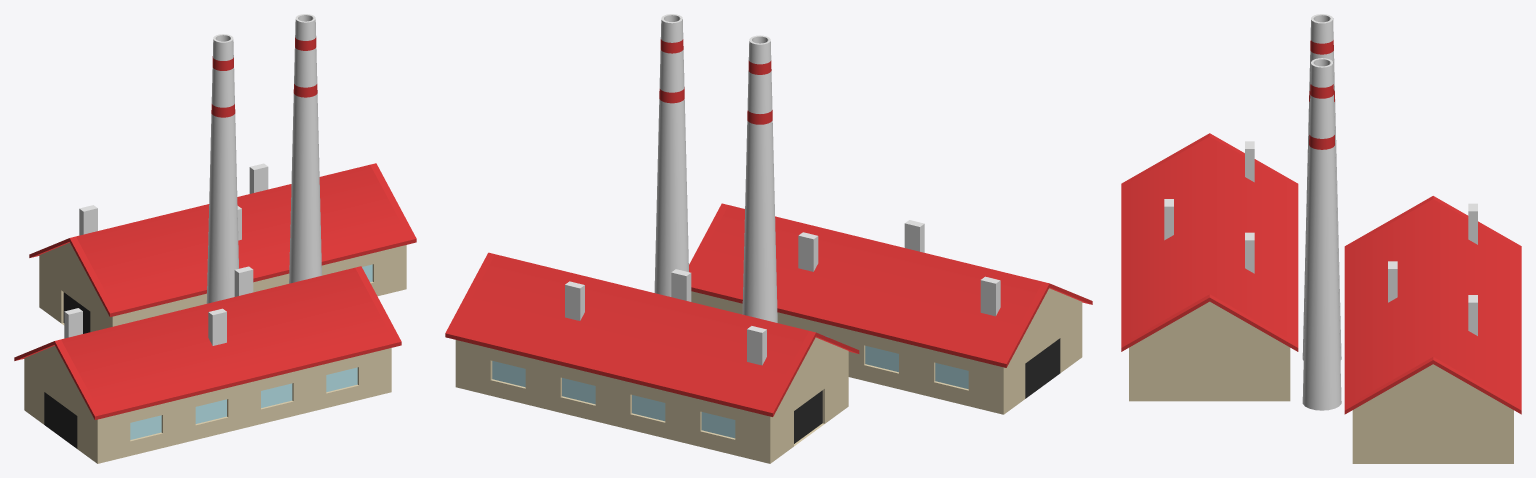
The model's file is factory.glb.
3 renders of one model, left to right at view 1: azimuth 30°, elevation 25°; view 2: azimuth 150°, elevation 25°; view 3: azimuth 270°, elevation 25°, orthographic. The views are drawn at different scales.
Parts seen in each view (by area): view 1: world, Box20187_f7cccb, Box20190_f04ba4, Cylinder004_b6ca1f, Cylinder003, Box20187_c6815e, Box20193, Box20191, Box20189, Box20188, Box20194, Cylinder003_39a0d3 (+2 smaller); view 2: world, Box20190_f04ba4, Box20187_f7cccb, Cylinder003, Cylinder004_b6ca1f, Box20187_c6815e, Box20190_1b9ee3, Box20191, Box20194, Box20189, Box20188; view 3: world, Box20187_f7cccb, Box20190_f04ba4, Cylinder004_b6ca1f, Cylinder003, Cylinder004_bcb7aa.
Boxes of the visible parts, <box> form: world: <box>14,163,416,439</box>; Box20187_f7cccb: <box>24,345,391,463</box>; Box20190_f04ba4: <box>39,242,406,331</box>; Cylinder004_b6ca1f: <box>289,14,321,283</box>; Cylinder003: <box>206,34,238,303</box>; Box20187_c6815e: <box>44,392,77,448</box>; Box20193: <box>208,308,226,345</box>; Box20191: <box>234,266,253,296</box>; Box20189: <box>249,163,268,193</box>; Box20188: <box>79,205,97,235</box>; Box20194: <box>64,308,82,338</box>; Cylinder003_39a0d3: <box>211,56,235,117</box>; world: <box>445,203,1092,438</box>; Box20190_f04ba4: <box>455,337,848,463</box>; Box20187_f7cccb: <box>691,288,1082,414</box>; Cylinder003: <box>742,35,777,322</box>; Cylinder004_b6ca1f: <box>654,14,688,296</box>; Box20187_c6815e: <box>1025,338,1060,398</box>; Box20190_1b9ee3: <box>794,390,822,443</box>; Box20191: <box>798,232,818,271</box>; Box20194: <box>980,276,1000,316</box>; Box20189: <box>565,281,584,320</box>; Box20188: <box>747,326,766,365</box>; world: <box>1121,133,1521,414</box>; Box20187_f7cccb: <box>1129,301,1290,401</box>; Box20190_f04ba4: <box>1352,364,1513,463</box>; Cylinder004_b6ca1f: <box>1302,58,1341,410</box>; Cylinder003: <box>1302,14,1341,360</box>; Cylinder004_bcb7aa: <box>1309,84,1334,149</box>.
Bounding box in the file's own units: 4778 × 3333 × 3564.
